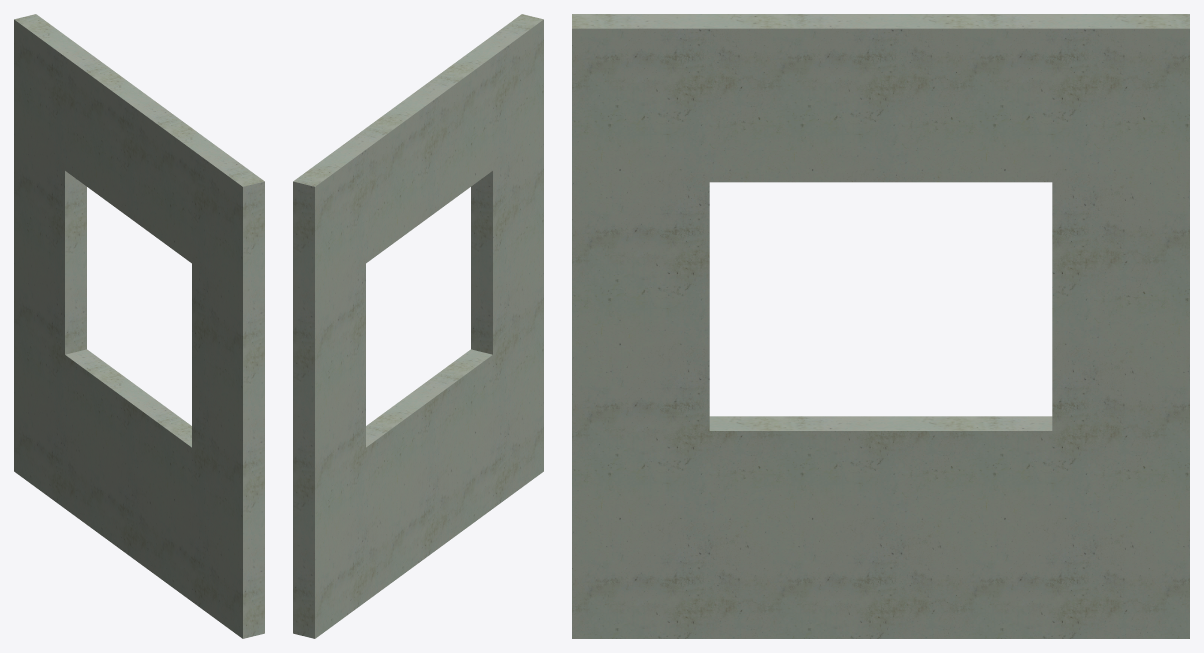
File: soupwindwall029.glb
3 views of the same model, side by side, from view 1: azimuth 30°, elevation 25°; view 2: azimuth 150°, elevation 25°; view 3: azimuth 270°, elevation 25° (orthographic). The views are drawn at different scales.
Parts seen in each view (by area): view 1: soupwindwall029_high_1; view 2: soupwindwall029_high_1; view 3: soupwindwall029_high_1.
Part boxes in pixels (x1=…): soupwindwall029_high_1: x1=14, y1=14, x2=264, y2=638; soupwindwall029_high_1: x1=293, y1=14, x2=543, y2=638; soupwindwall029_high_1: x1=572, y1=14, x2=1189, y2=638.
Bounding box in the file's own units: 0.1504 × 2.95 × 2.7.
Materials: 1 (1 with a texture image).
